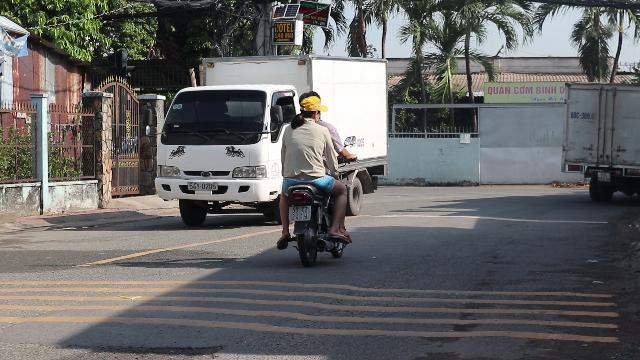licenseplate: (290, 205, 310, 219)
motorcyclist: (271, 87, 353, 265)
nohelmet: (300, 96, 328, 122)
